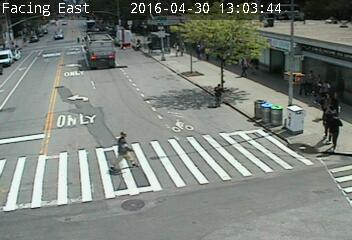neg: (303, 8, 328, 41), (151, 156, 173, 186), (170, 115, 189, 140), (47, 141, 66, 166), (13, 136, 32, 161), (178, 155, 196, 180), (259, 123, 277, 146), (229, 12, 245, 34), (225, 187, 240, 208), (316, 181, 331, 201), (83, 57, 98, 76), (136, 58, 150, 77), (42, 62, 55, 80), (291, 151, 304, 169), (162, 83, 174, 99), (13, 51, 25, 67), (133, 98, 144, 114), (28, 37, 39, 53), (113, 63, 124, 78), (191, 200, 202, 215), (6, 78, 17, 93), (277, 36, 287, 51), (57, 107, 67, 120), (33, 105, 43, 117), (45, 28, 54, 40), (189, 12, 198, 24), (76, 93, 85, 105), (251, 166, 259, 178), (214, 145, 222, 156), (266, 186, 272, 195), (74, 8, 78, 14)
pos: (106, 128, 139, 173), (203, 79, 231, 116), (321, 112, 348, 147), (314, 102, 339, 135), (167, 34, 190, 65), (232, 50, 254, 78), (246, 51, 265, 76), (307, 69, 325, 93), (191, 42, 206, 62), (199, 41, 214, 61), (323, 80, 336, 98), (134, 36, 143, 48)
